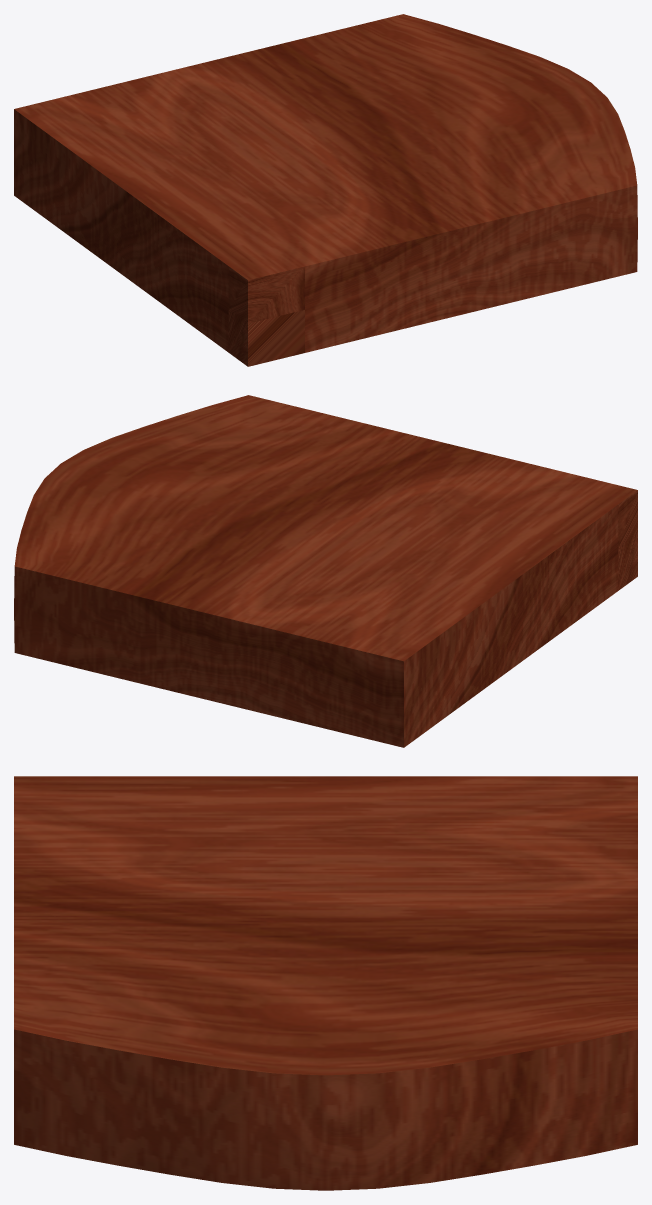
File: chair.fbx
3 views of the same model, one above another, from view 1: azimuth 30°, elevation 25°; view 2: azimuth 150°, elevation 25°; view 3: azimuth 270°, elevation 25° (orthographic). The views are drawn at different scales.
Parts seen in each view (by area): view 1: pCube1; view 2: pCube1; view 3: pCube1.
Boxes of the visible parts, <box> form: pCube1: <box>14,14,637,366</box>; pCube1: <box>14,395,637,747</box>; pCube1: <box>14,776,637,1190</box>.
Bounding box in the file's own units: 1.45 × 0.2572 × 1.26.
1 material, 1 textured.
